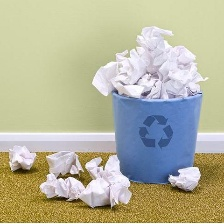book: (88, 16, 211, 103), (77, 146, 138, 209), (164, 158, 211, 190), (41, 140, 82, 176), (37, 171, 84, 202), (3, 140, 34, 172)
